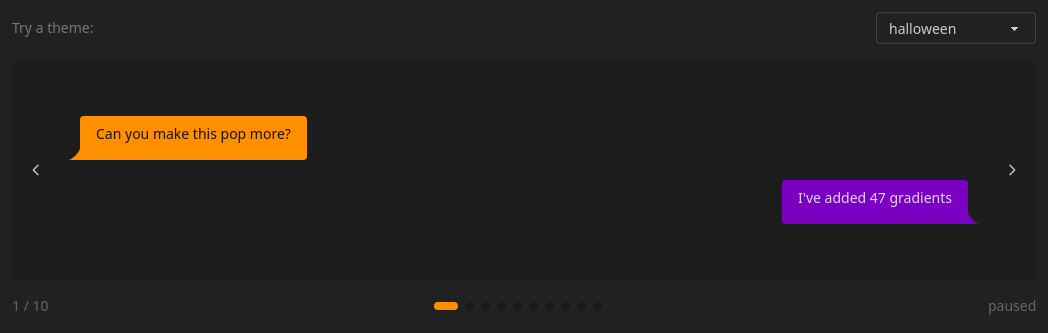
Test case: UICarousel › wraps around when navigating past last slide
# Navigate to last slide using prev from first (wraps to 10)
Click the button named "previous slide" at (36, 170), box 20,154 -> 52,186
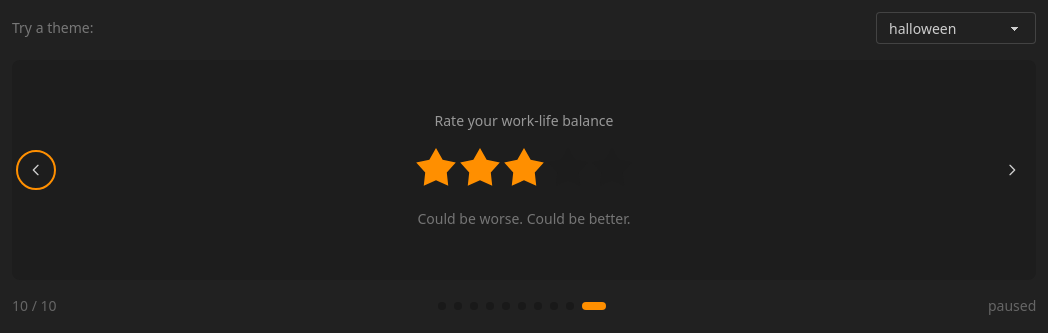
Expected: the text "10 / 10" is shown, 12,296 -> 57,316
